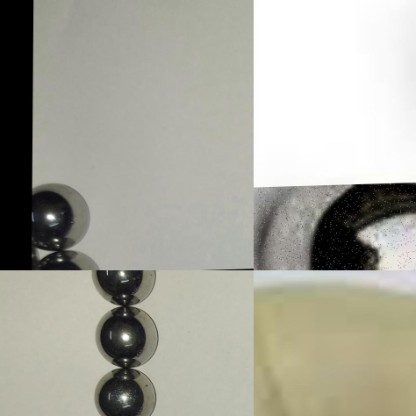ironball: (253, 182, 415, 270), (32, 179, 96, 249), (92, 306, 156, 367), (92, 363, 159, 414), (90, 264, 161, 308), (32, 249, 104, 271)
